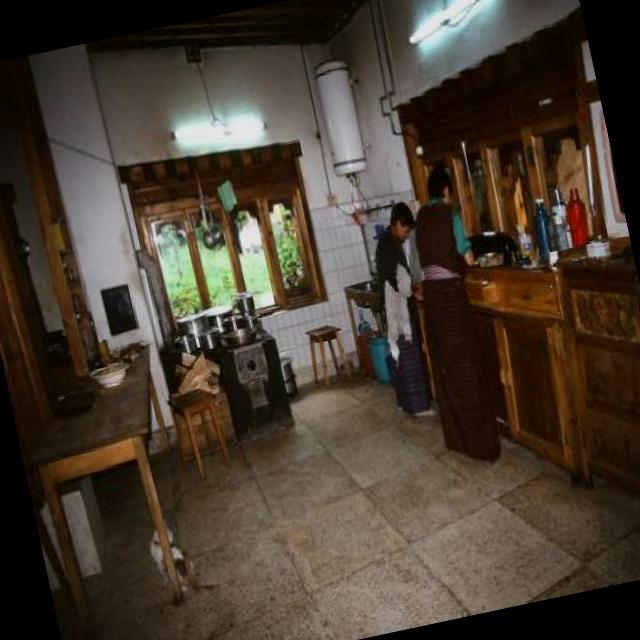Person: (386, 157, 519, 470), (356, 196, 457, 422)
